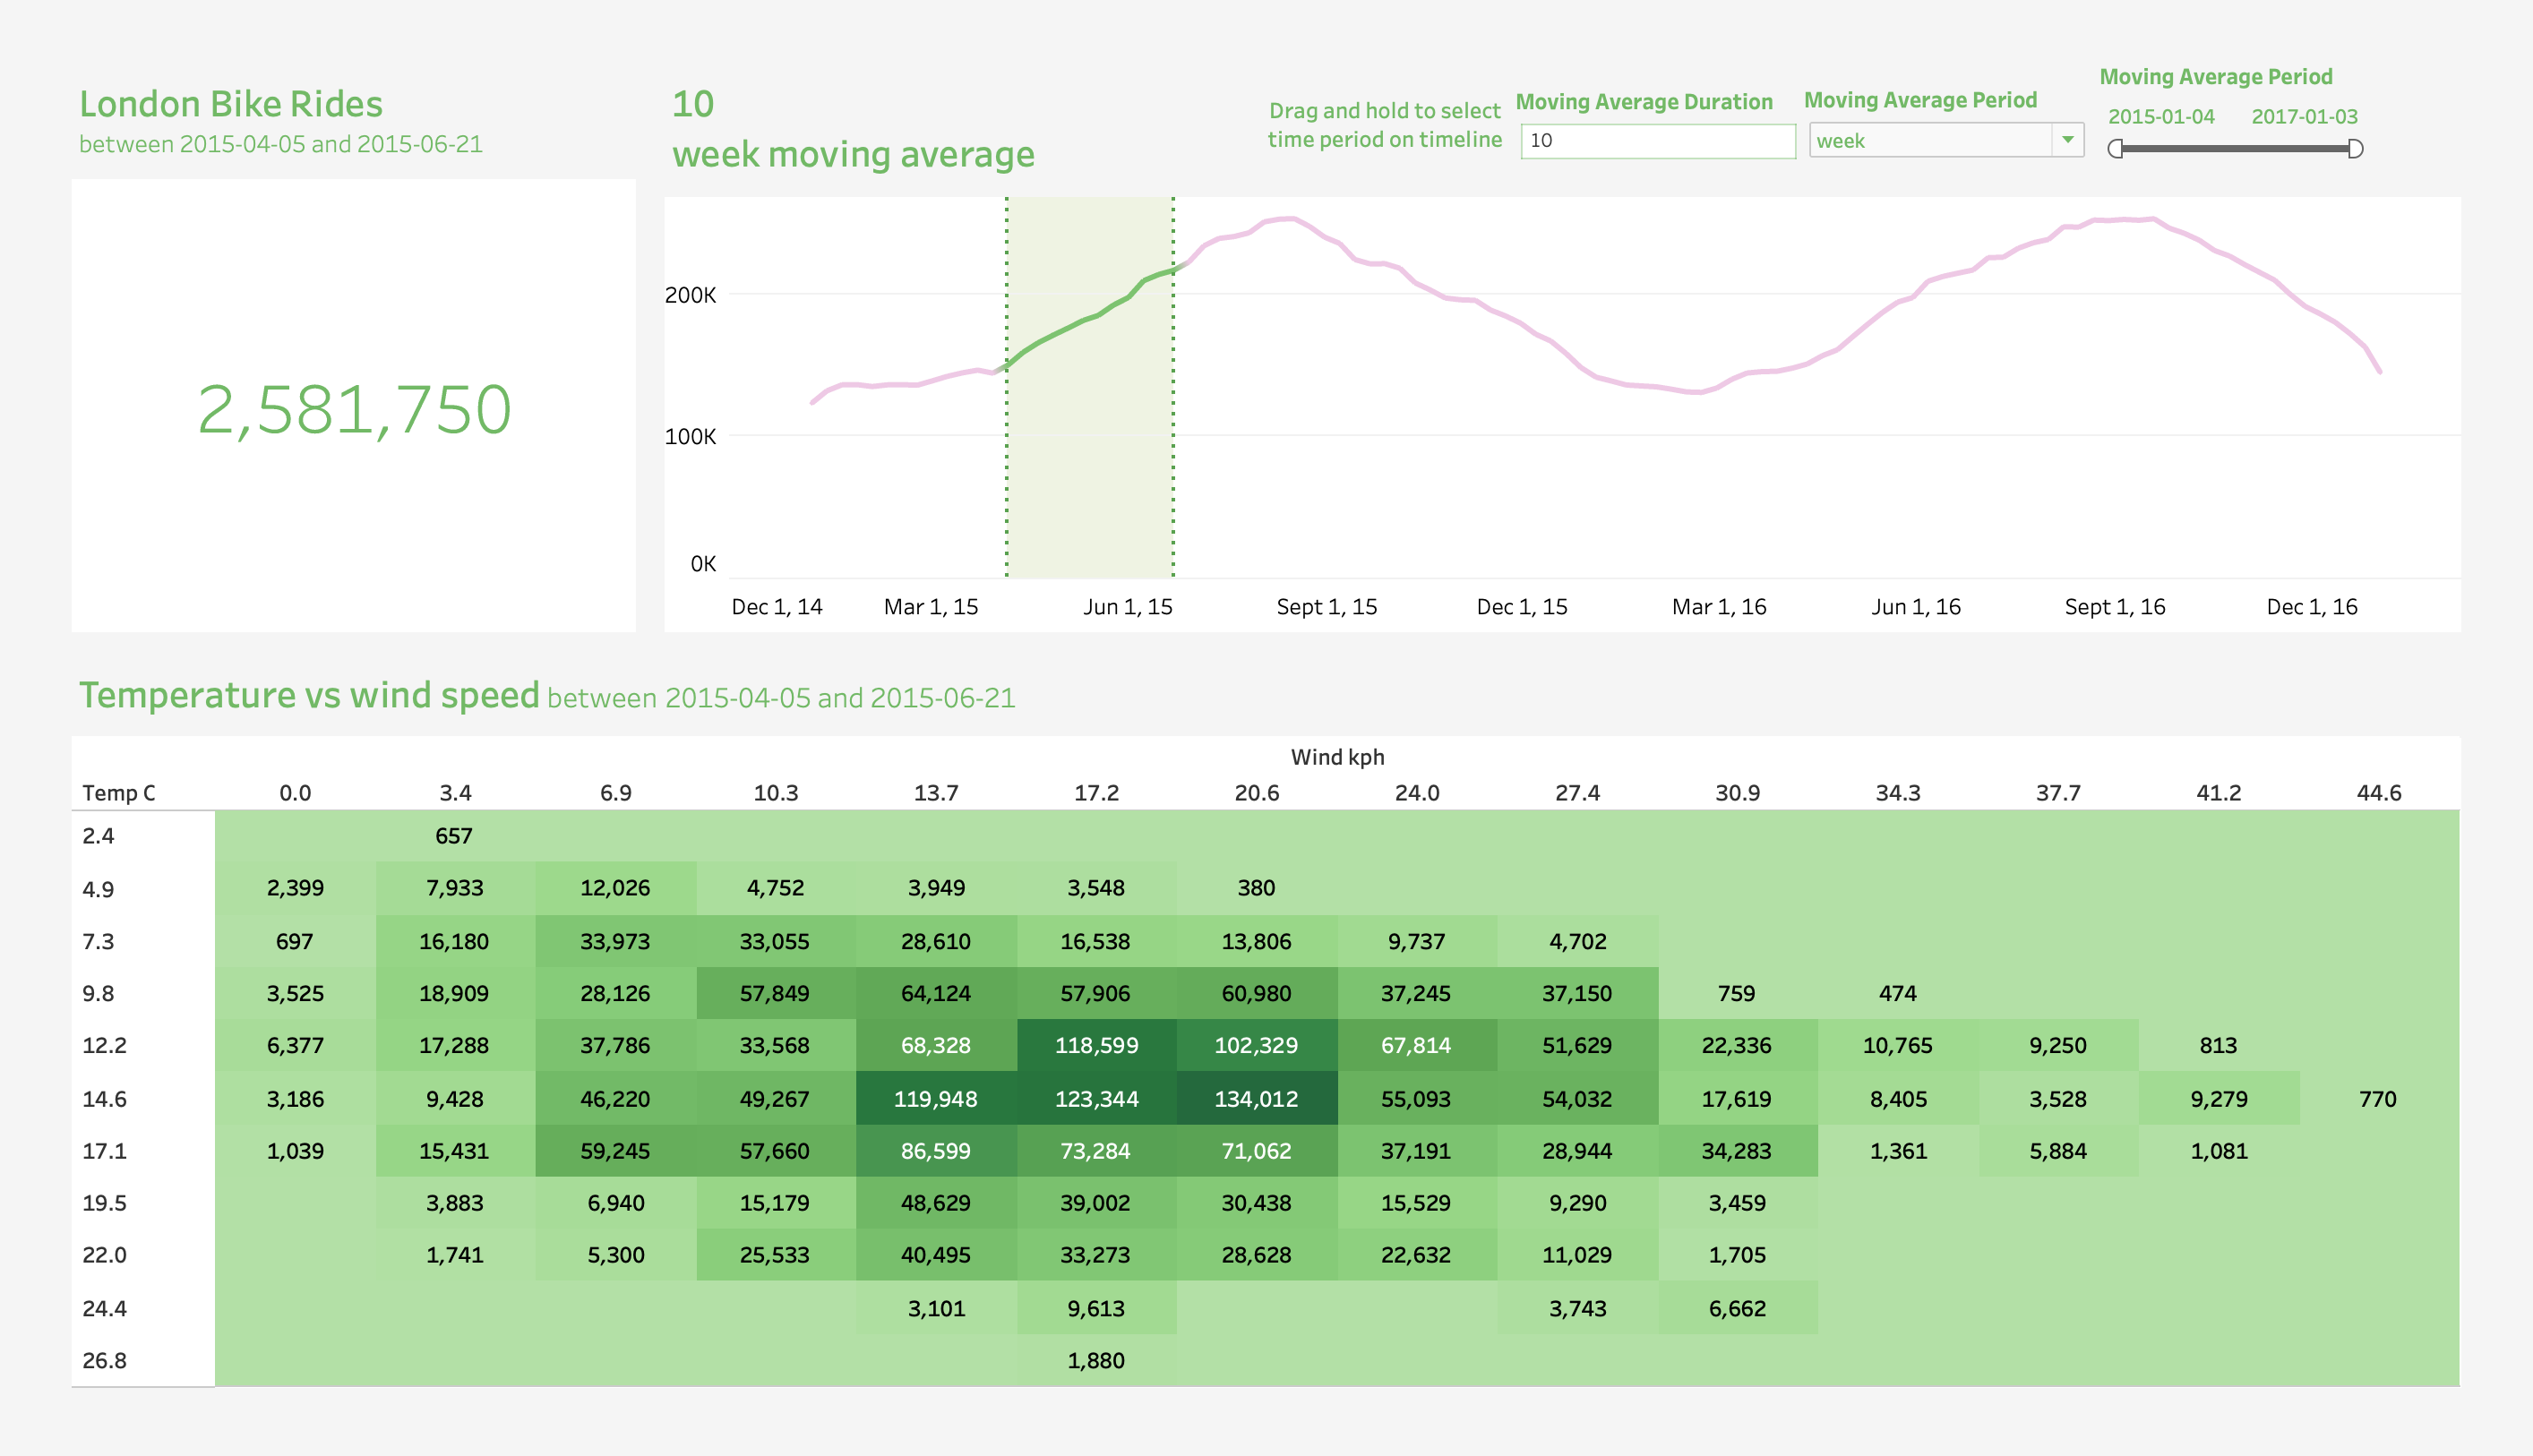

What the dashboard file says about the page in this screenshot:
{"tool":"tableau","page":{"name":"Dashboard 1","canvas":[1366,768],"ordinal":0},"visuals":[{"type":"filter","title":"Moving Average","param":"[federated.0qjip4u0dw9m191af9avs18hpkys].[none:Calculation_3759590927073849347:q","box":[1144,7,160,69]},{"type":"worksheet","title":"Total Rides","mark":"Automatic","box":[8,8,331,330]},{"type":"worksheet","title":"Moving Average","mark":"Automatic","rows":["Calculation1"],"cols":["Calculation_3759590927073849347"],"box":[339,8,1019,330]},{"type":"parameter","param":"[Parameters].[Parameter 1]","box":[983,24,160,44]},{"type":"parameter","param":"[Parameters].[Parameter 2]","box":[822,25,160,44]},{"type":"text","box":[681,30,137,34]},{"type":"worksheet","title":"Heatmap","mark":"Square","rows":["temp real C (bin)"],"cols":["Wind Speed Kph (bin)"],"box":[8,338,1350,422]}]}

Visuals, with their boxes in screenshot pixels (x1, y1, x2, y2), scaled from the page's 1366x768 canvas onto the 2533x1456 screenshot:
"Moving Average" filter: <bbox>2121, 13, 2418, 144</bbox>
"Total Rides" worksheet: <bbox>15, 15, 629, 641</bbox>
"Moving Average" worksheet: <bbox>629, 15, 2518, 641</bbox>
parameter: <bbox>1823, 46, 2119, 129</bbox>
parameter: <bbox>1524, 47, 1821, 131</bbox>
text: <bbox>1263, 57, 1516, 122</bbox>
"Heatmap" worksheet (Square marks): <bbox>15, 641, 2518, 1441</bbox>
